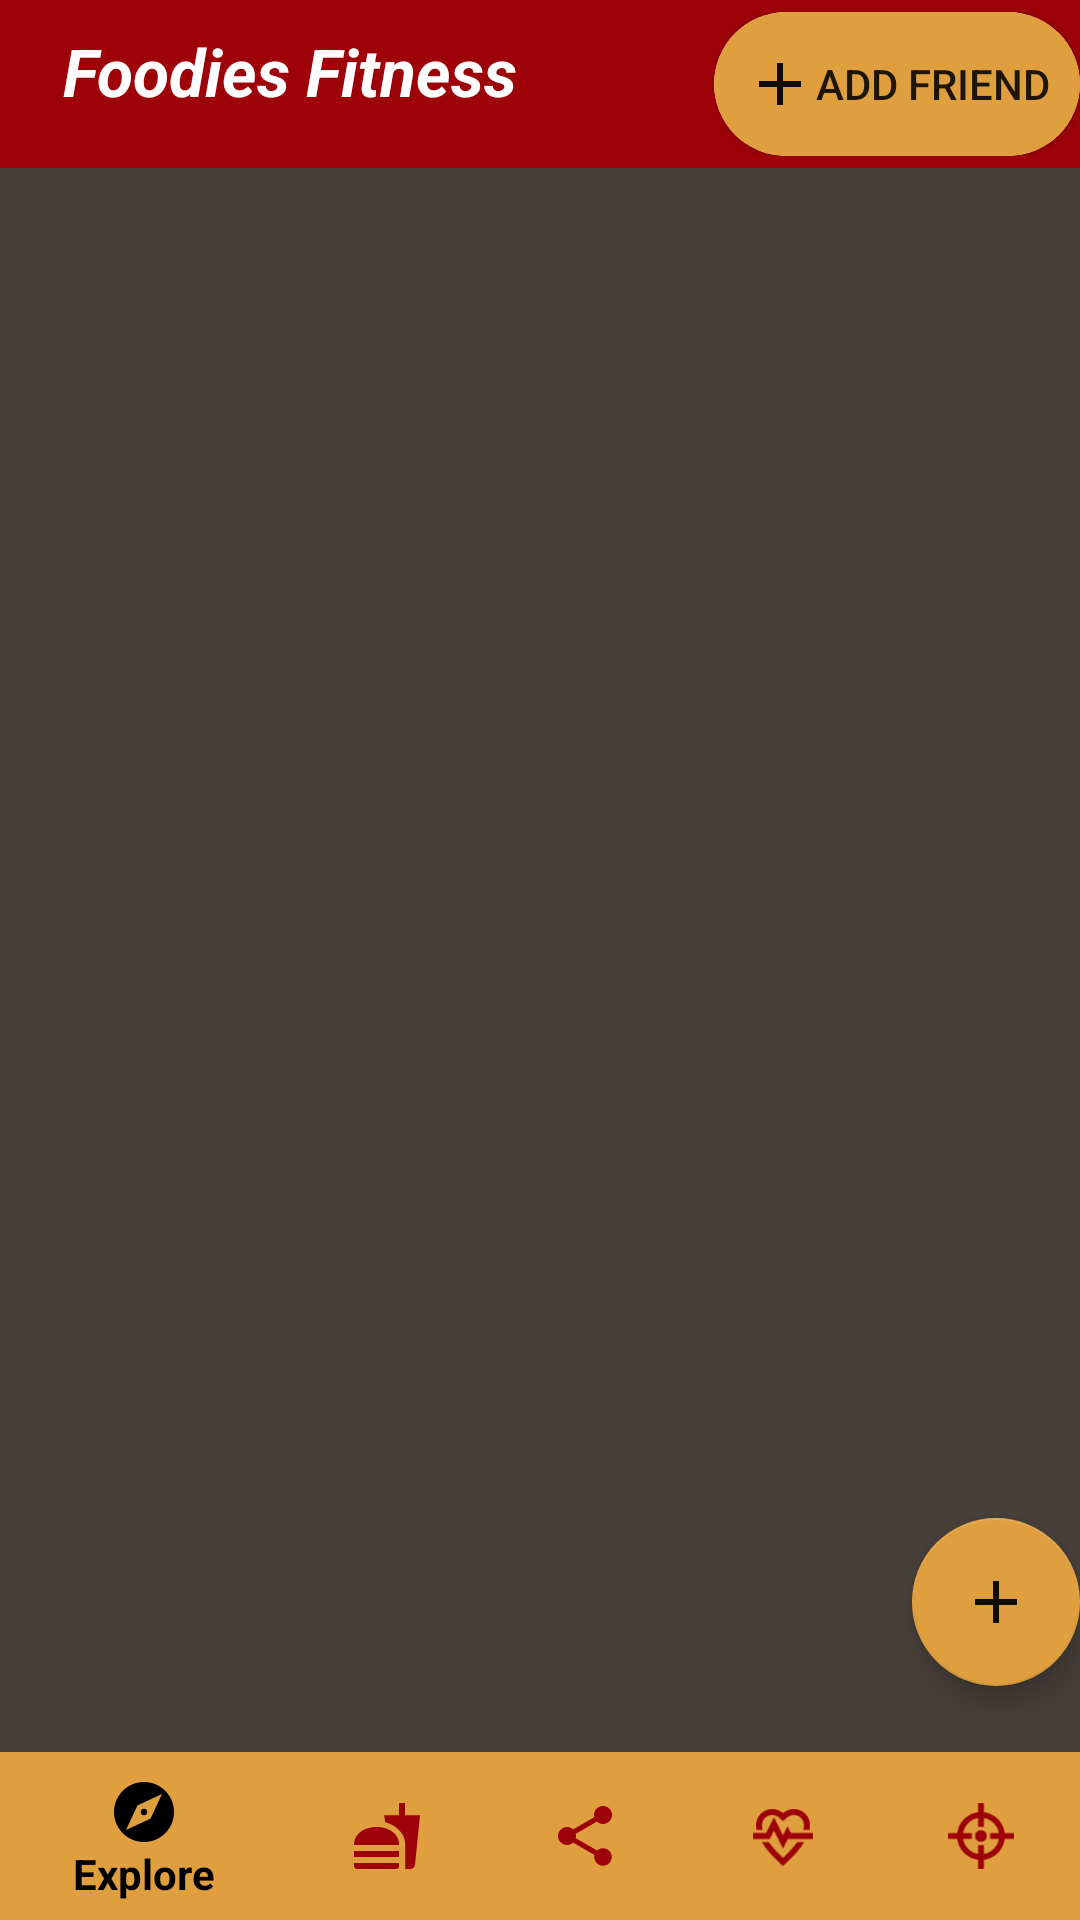

Icons on this 1080*1920 Android screen, each with its box as (x1, y1, x2, y2):
add: (912, 1518, 1080, 1686)
